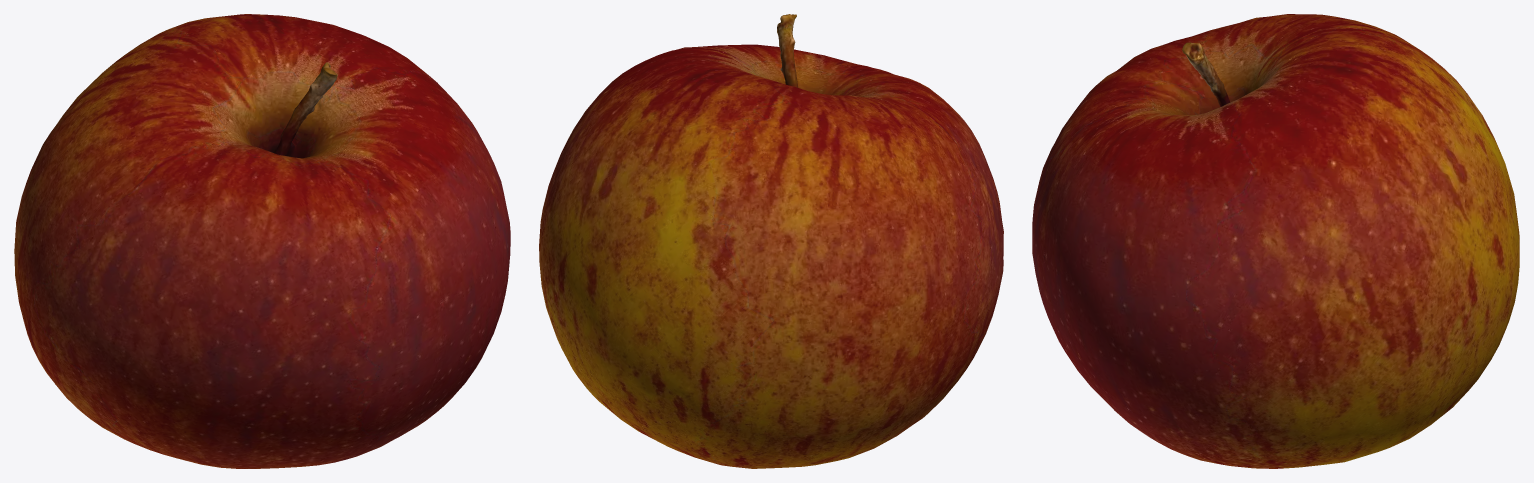
The model's file is apple.glb.
The picture shows the model from 3 angles, left to right: view 1: azimuth 30°, elevation 25°; view 2: azimuth 150°, elevation 25°; view 3: azimuth 270°, elevation 25°; orthographic projection. The views are drawn at different scales.
Visible parts, largest first — view 1: food_apple_01; view 2: food_apple_01; view 3: food_apple_01.
Boxes of the visible parts, x1,y1,x2,y2 form: food_apple_01: (14,14,510,468); food_apple_01: (539,14,1003,468); food_apple_01: (1032,14,1519,468).
Bounding box in the file's own units: 0.0976 × 0.0854 × 0.0959.
Materials: 1 (1 with a texture image).
